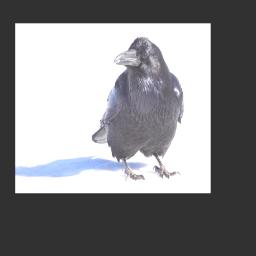Crow: (90, 35, 184, 182)
